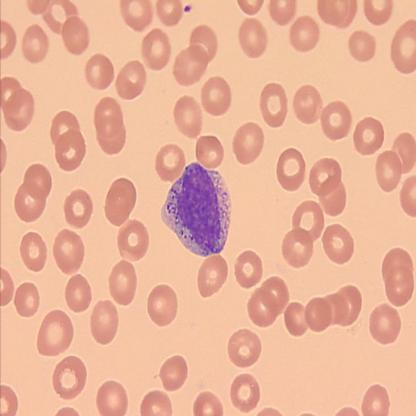Metamyelocyte: (160, 159, 234, 258)
